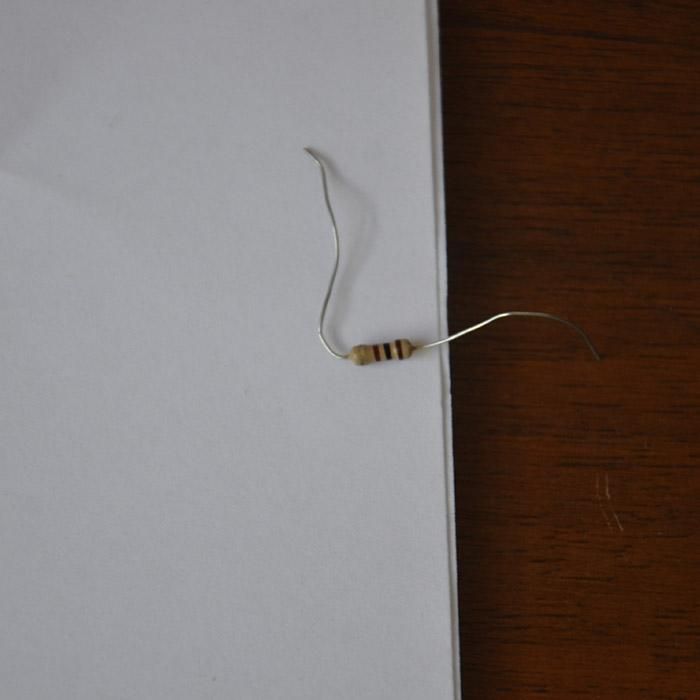resistor: (346, 338, 414, 365)
